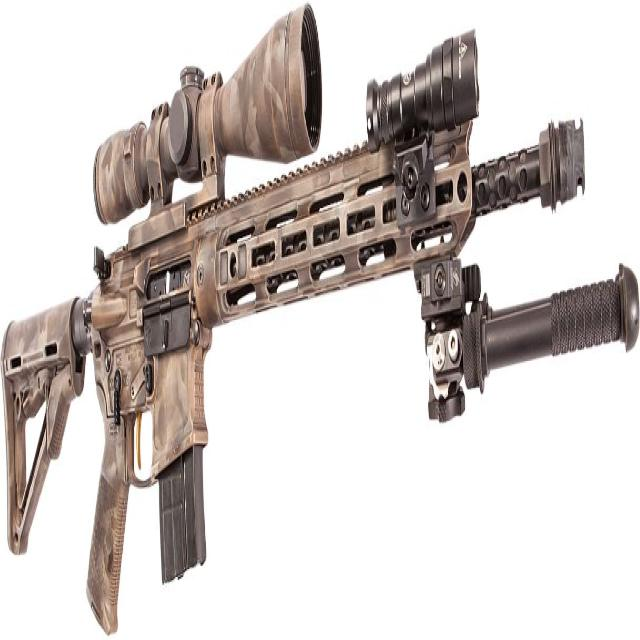Rifle: (3, 13, 584, 635)
